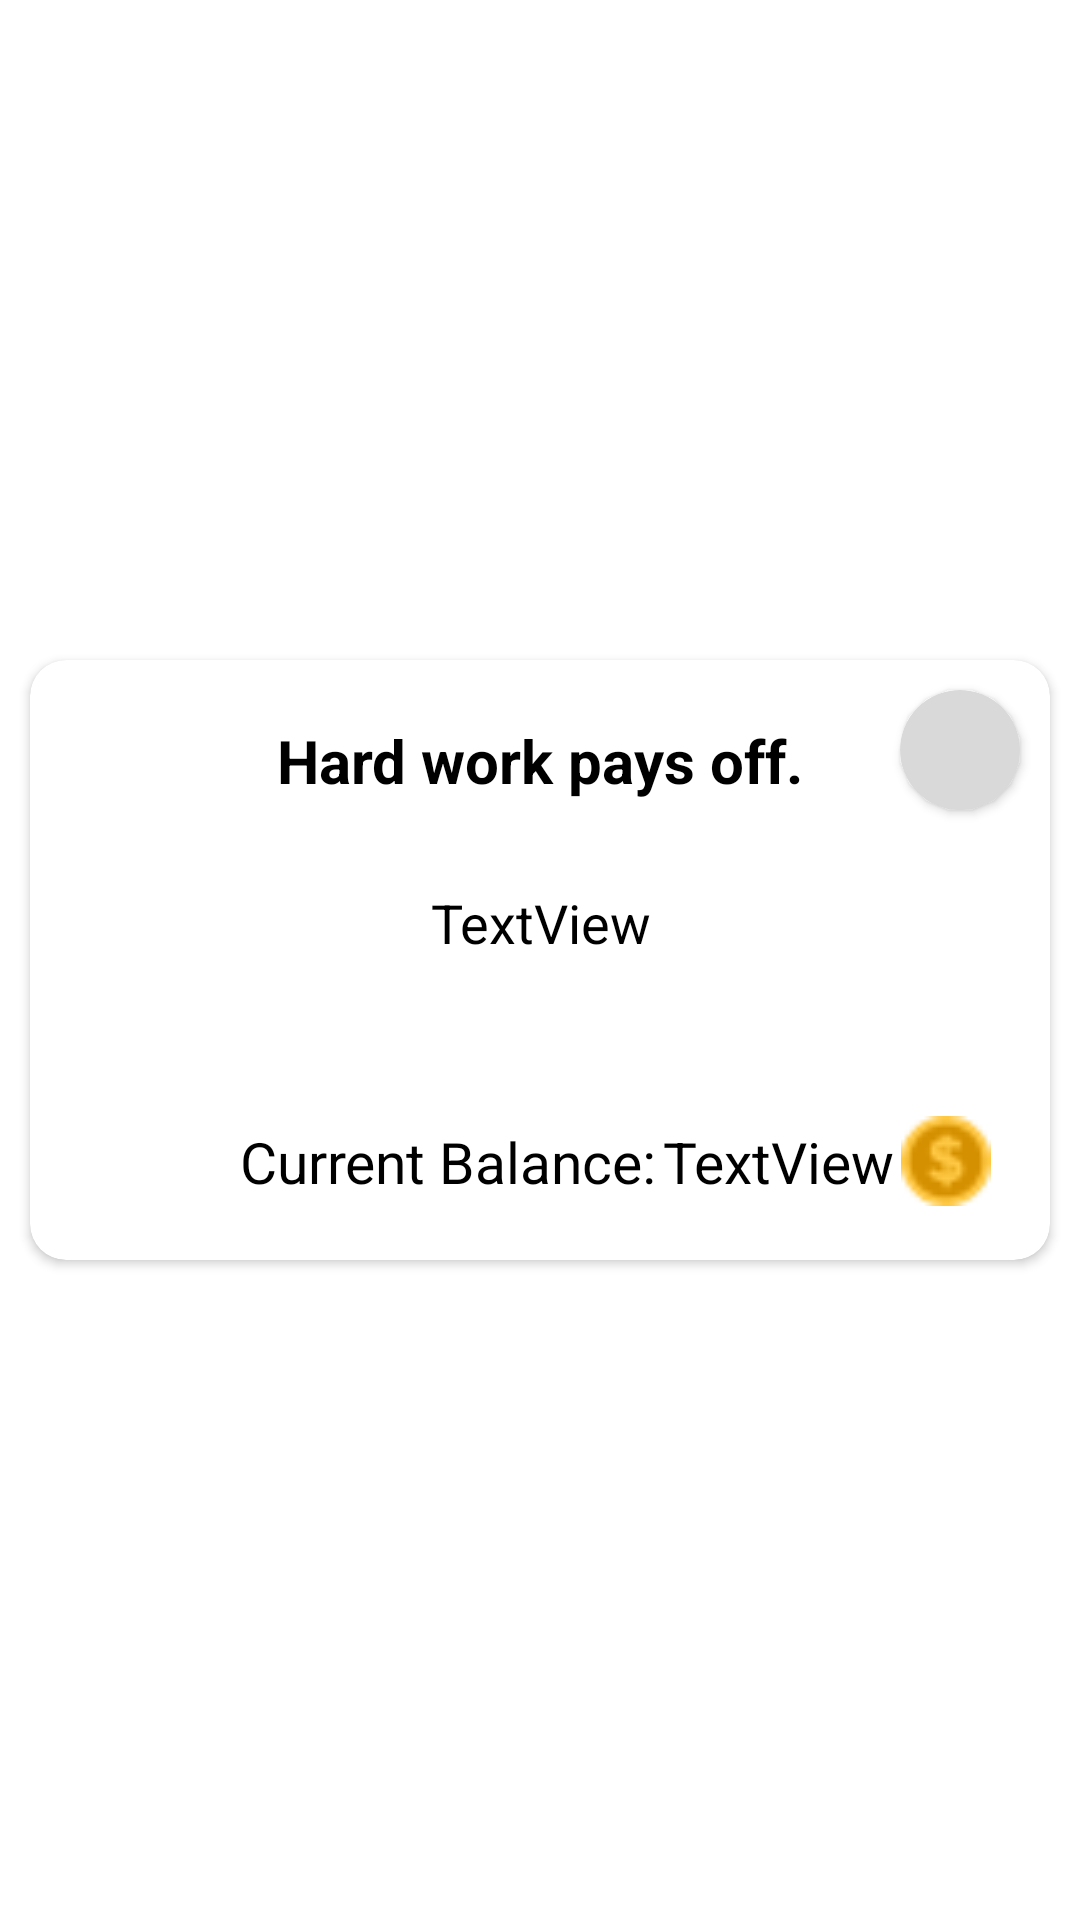

Named icons in this screenshot (1080x1920) and their centers, (x=x, y=y):
shop coin: (x=946, y=1161)
